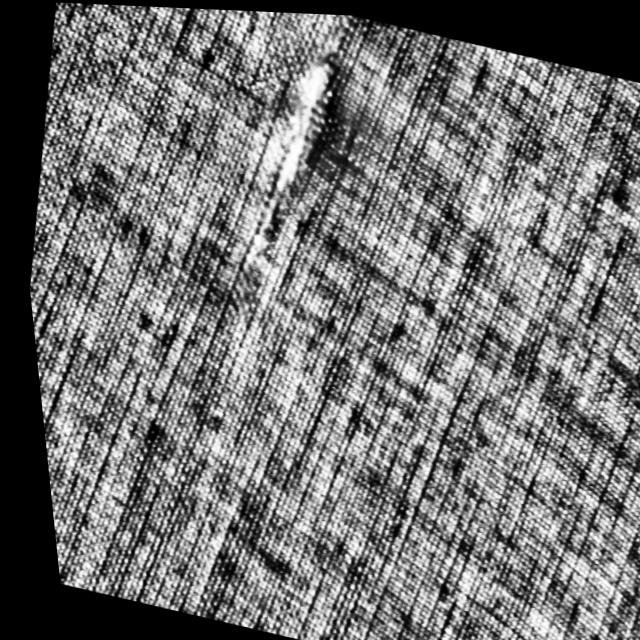Stitch: (225, 29, 367, 268)
